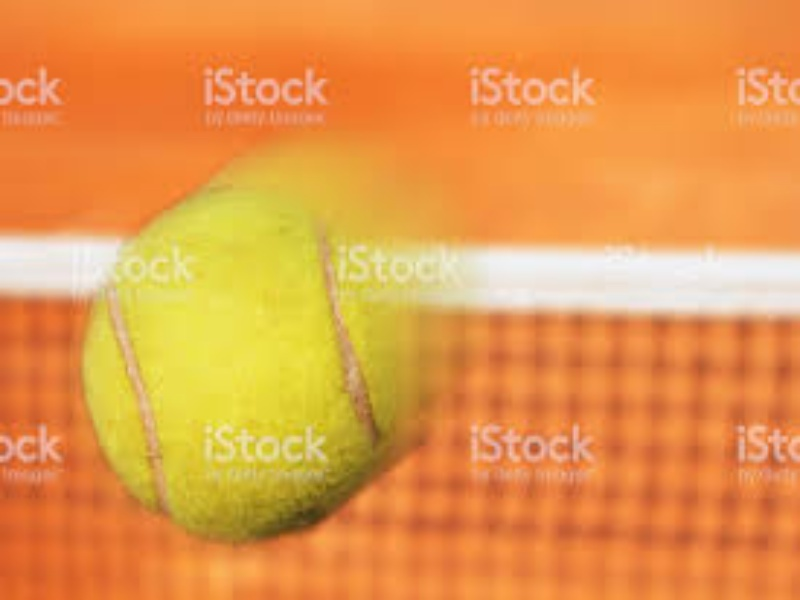tennis ball: (83, 188, 476, 562)
